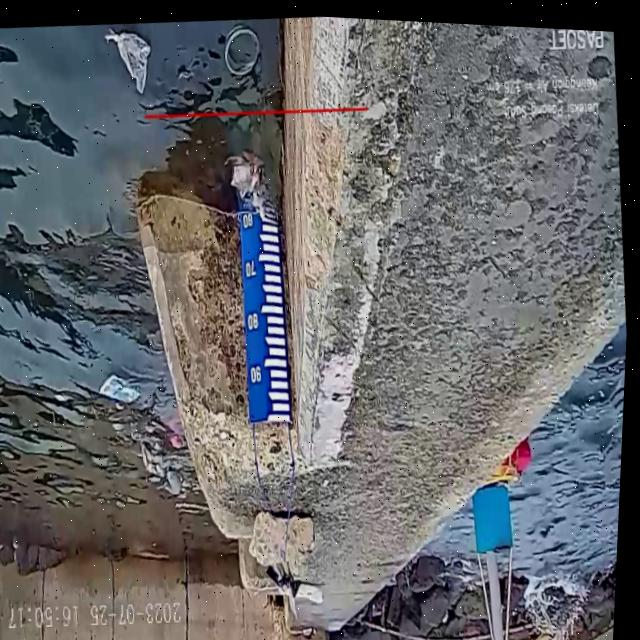water-meter: (216, 186, 309, 440)
